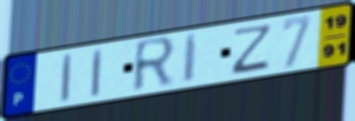7: (280, 14, 316, 69)
I: (181, 31, 201, 85), (59, 51, 75, 104), (89, 46, 105, 99)
R: (131, 34, 179, 96)
Z: (228, 21, 276, 76)
